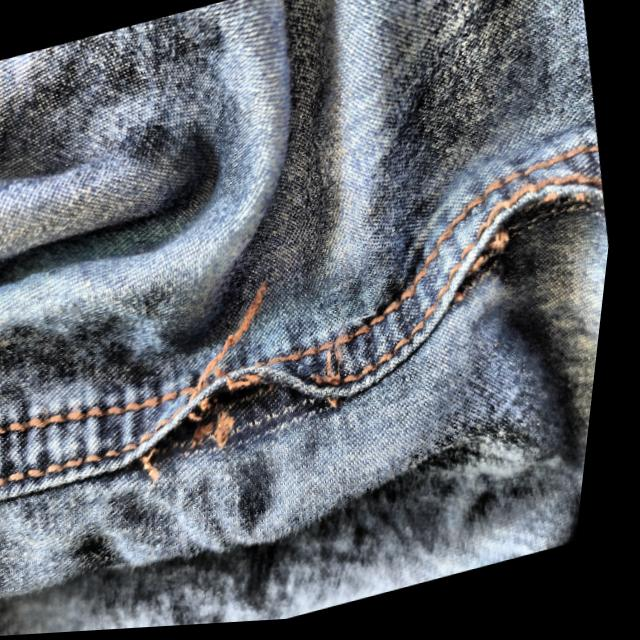seam: (117, 324, 397, 529), (426, 163, 623, 343)
